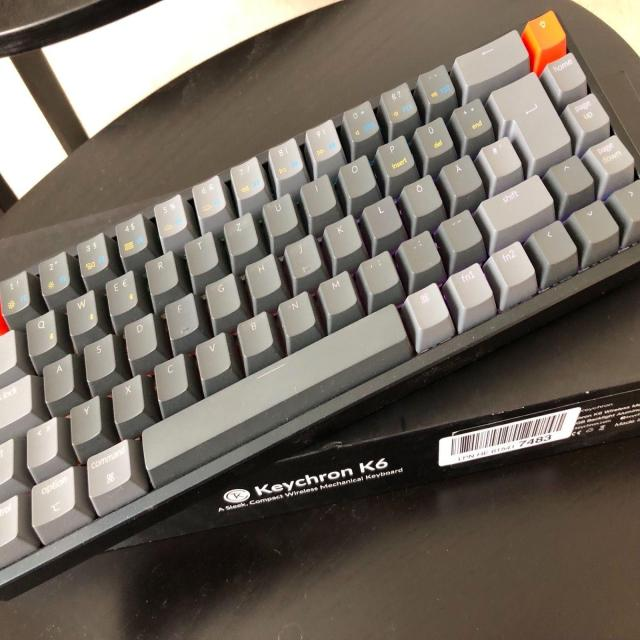0: (341, 98, 382, 146)
1: (0, 268, 30, 316)
2: (37, 250, 69, 296)
3: (75, 229, 109, 279)
4: (113, 210, 151, 258)
5: (153, 192, 191, 240)
6: (190, 173, 228, 221)
7: (228, 155, 269, 203)
8: (268, 136, 309, 184)
9: (304, 116, 345, 164)
a: (43, 352, 74, 402)
accent: (416, 62, 457, 108)
ae: (438, 152, 483, 199)
alt-left: (29, 462, 83, 538)
b: (236, 309, 273, 357)
c: (153, 352, 187, 401)
comma: (357, 249, 400, 296)
d: (123, 311, 156, 360)
del: (450, 28, 530, 89)
e: (105, 268, 137, 316)
enter: (487, 70, 572, 161)
f: (164, 291, 198, 340)
g: (204, 271, 240, 319)
h: (244, 251, 281, 299)
hash: (477, 135, 522, 178)
i: (300, 172, 337, 218)
j: (284, 231, 322, 280)
k: (323, 212, 362, 260)
keyboard: (1, 4, 639, 597)
l: (362, 193, 403, 240)
less: (25, 415, 58, 468)
m: (317, 268, 357, 316)
minus: (436, 208, 483, 253)
n: (277, 289, 316, 337)
o: (338, 153, 377, 199)
oe: (400, 172, 444, 219)
p: (375, 133, 418, 180)
plus: (449, 96, 493, 142)
point: (396, 229, 443, 275)
q: (25, 308, 57, 356)
r: (144, 249, 178, 294)
s: (83, 332, 115, 381)
shift-right: (475, 173, 556, 235)
space: (139, 299, 415, 478)
ss: (379, 81, 420, 127)
t: (184, 231, 218, 274)
u: (261, 192, 298, 237)
ue: (412, 114, 455, 159)
v: (195, 330, 230, 379)
w: (65, 288, 97, 334)
x: (111, 373, 144, 423)
y: (69, 394, 101, 444)
z: (223, 210, 258, 256)
